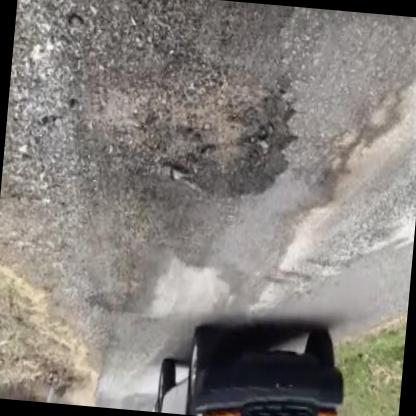pothole: (148, 64, 306, 208)
